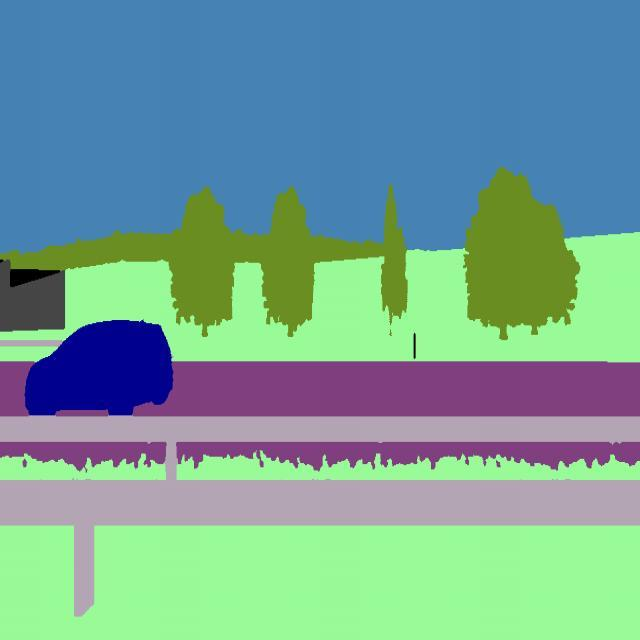safe: (25, 312, 176, 418)
